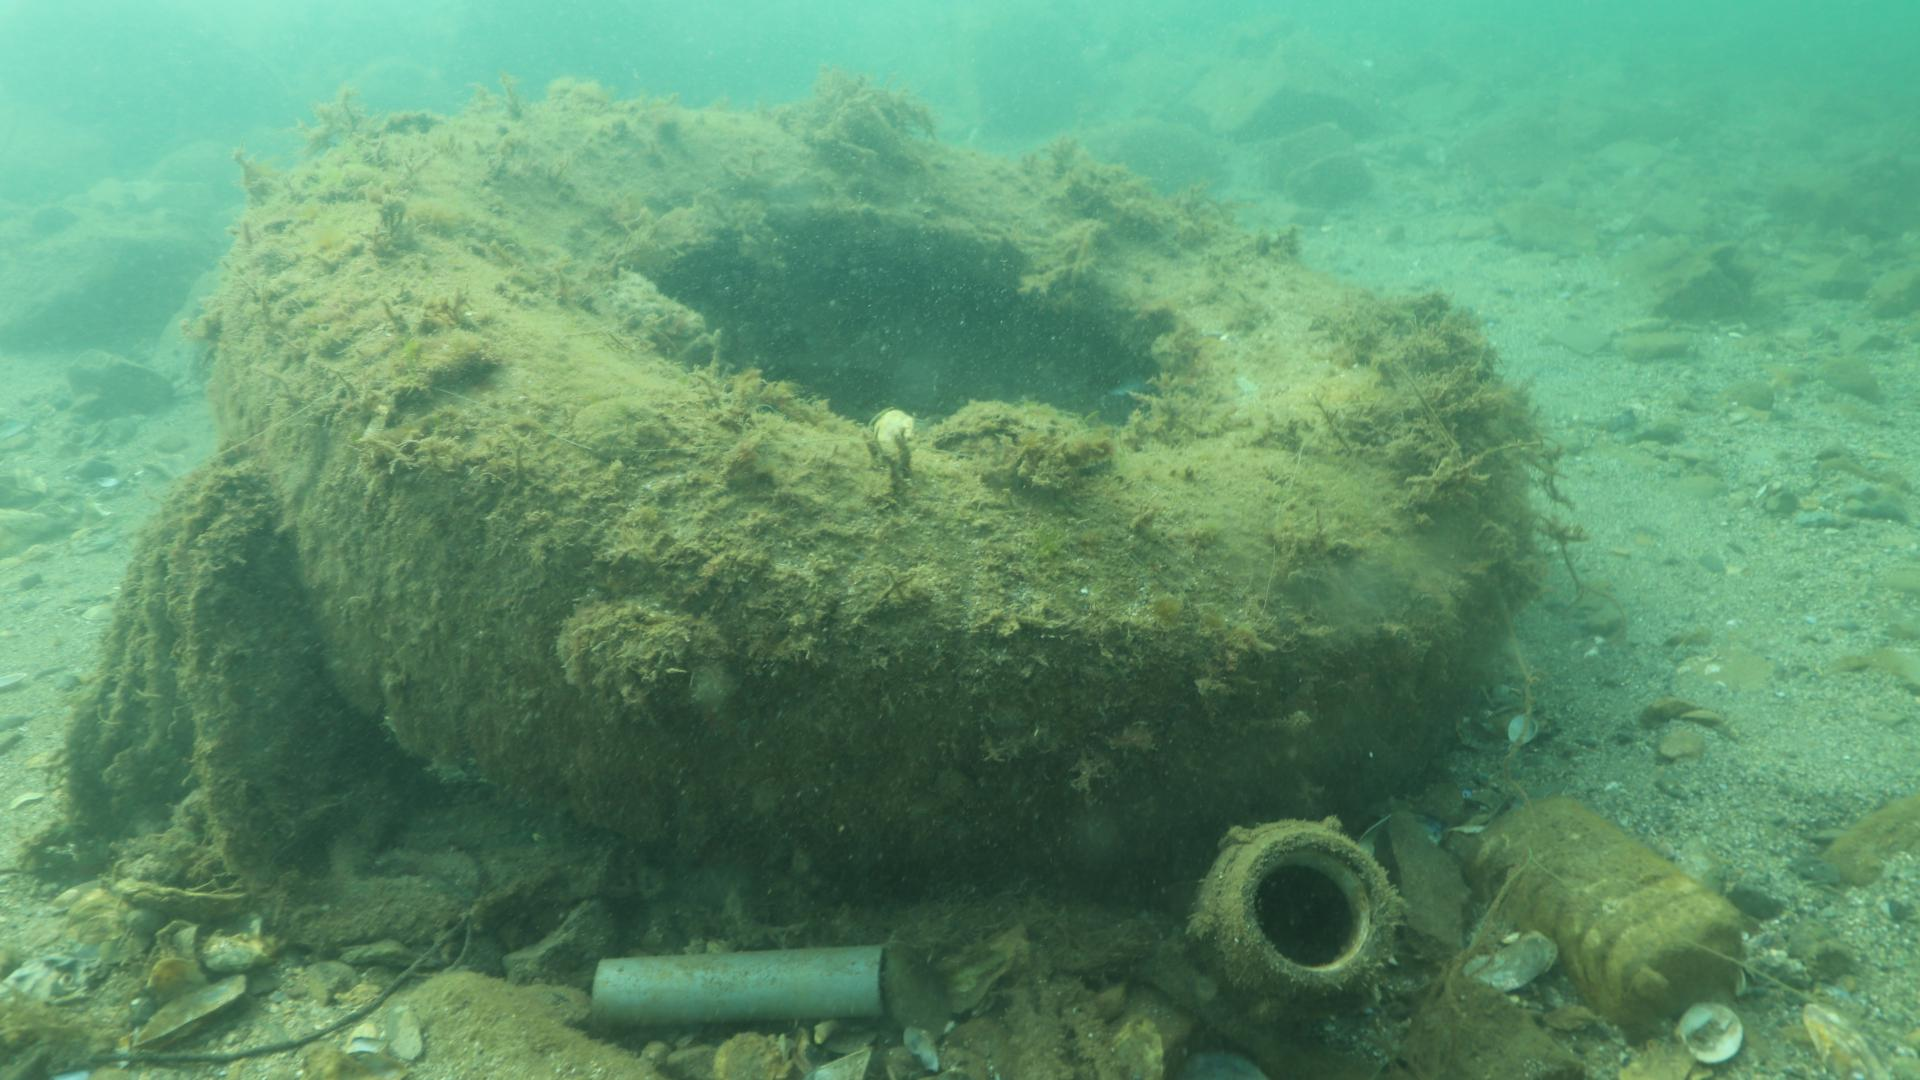tire: (229, 105, 1527, 837)
